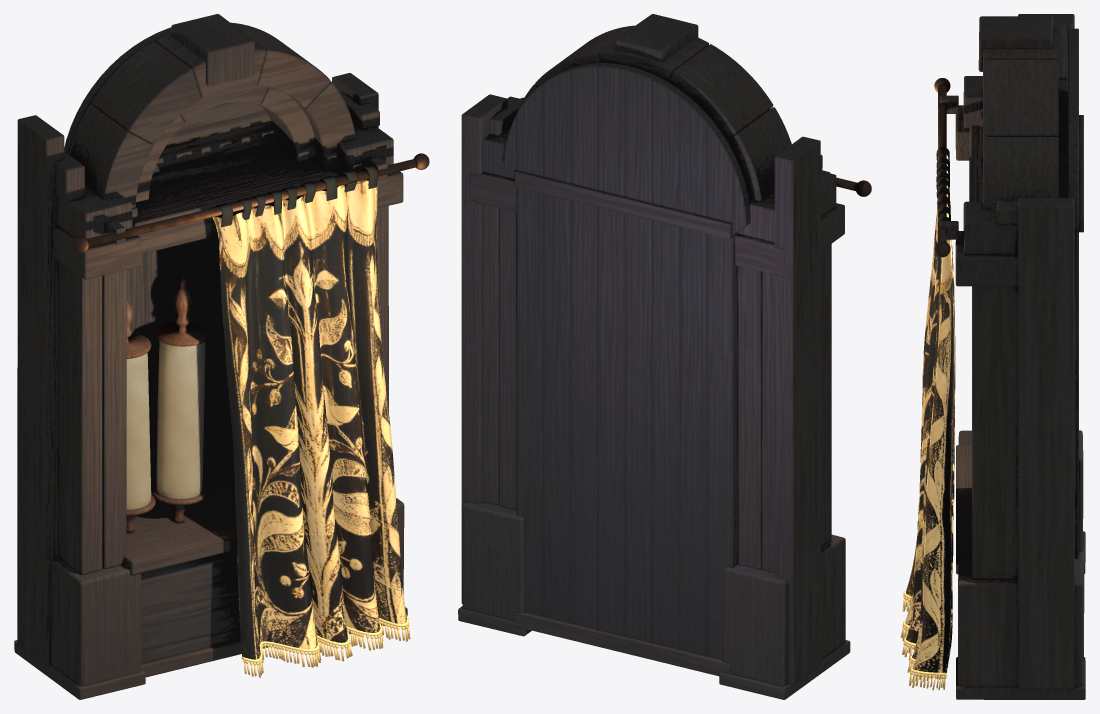
The model's file is aron_ar.glb.
3 renders of one model, left to right at view 1: azimuth 30°, elevation 25°; view 2: azimuth 150°, elevation 25°; view 3: azimuth 270°, elevation 25°, orthographic.
Visible parts, largest first — view 1: aron; view 2: aron; view 3: aron.
Boxes of the visible parts, left/top/right/bottom form: aron: left=14, top=14, right=429, bottom=699; aron: left=458, top=14, right=871, bottom=699; aron: left=900, top=14, right=1085, bottom=699.
Size of the model in its own units: 1.53 by 2.5 by 0.7056.
Materials: 2 (2 with a texture image).
